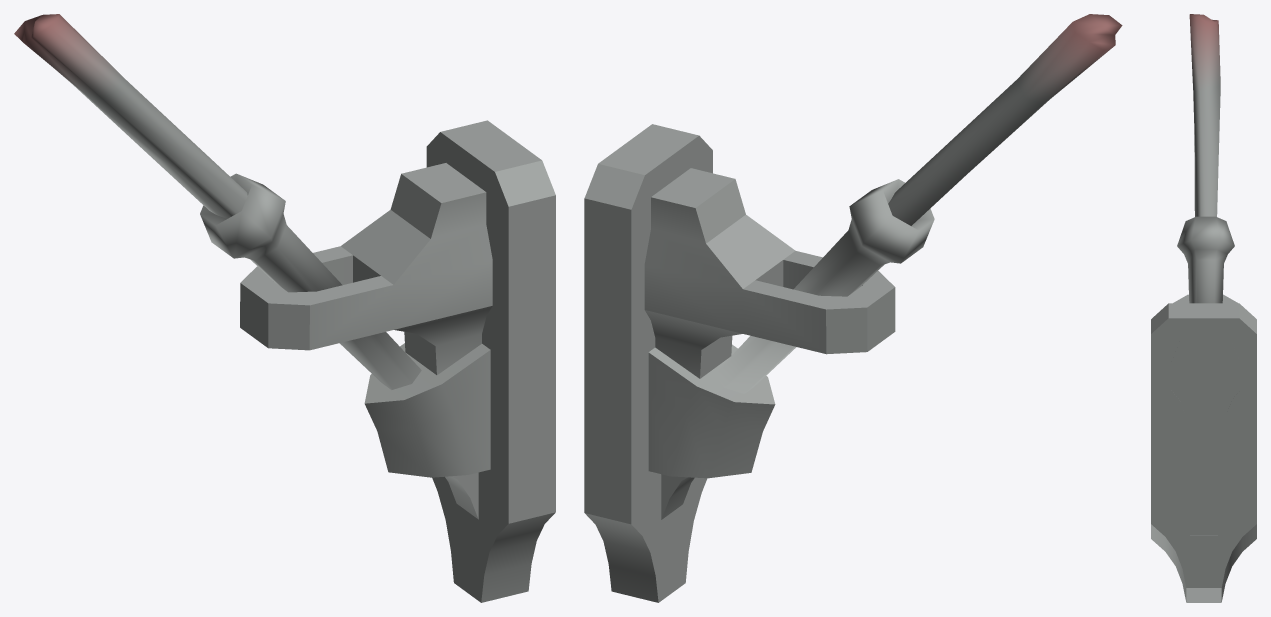
3 views of the same model, side by side, from view 1: azimuth 30°, elevation 25°; view 2: azimuth 150°, elevation 25°; view 3: azimuth 270°, elevation 25° (orthographic). The views are drawn at different scales.
Parts seen in each view (by area): view 1: G:\FFXIV-MapTools\exports\r2f1\bg\ex1\01_roc_r2\fld\r2f1\bgp (×2); view 2: G:\FFXIV-MapTools\exports\r2f1\bg\ex1\01_roc_r2\fld\r2f1\bgp (×2); view 3: G:\FFXIV-MapTools\exports\r2f1\bg\ex1\01_roc_r2\fld\r2f1\bgp (×2).
Boxes of the visible parts, x1,y1,x2,y2 form: G:\FFXIV-MapTools\exports\r2f1\bg\ex1\01_roc_r2\fld\r2f1\bgp (×2): (14, 14, 555, 602); G:\FFXIV-MapTools\exports\r2f1\bg\ex1\01_roc_r2\fld\r2f1\bgp (×2): (584, 14, 1122, 602); G:\FFXIV-MapTools\exports\r2f1\bg\ex1\01_roc_r2\fld\r2f1\bgp (×2): (1151, 14, 1256, 602).
Bounding box in the file's own units: 0.5957 × 0.7861 × 0.1718.
